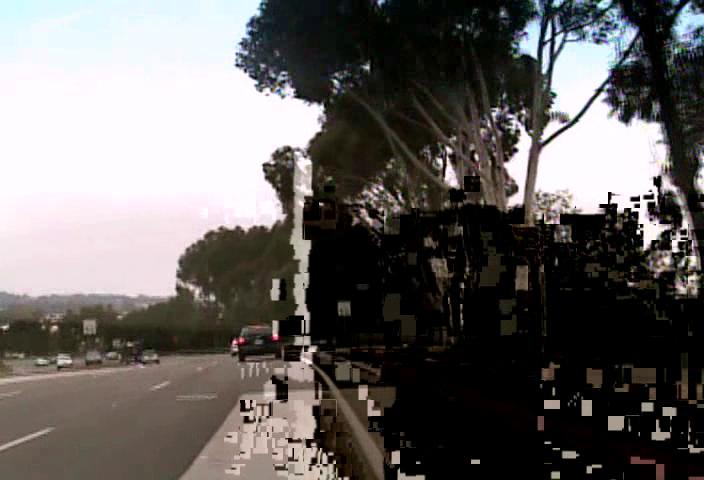speedLimitUrdbl: (82, 318, 96, 334)
